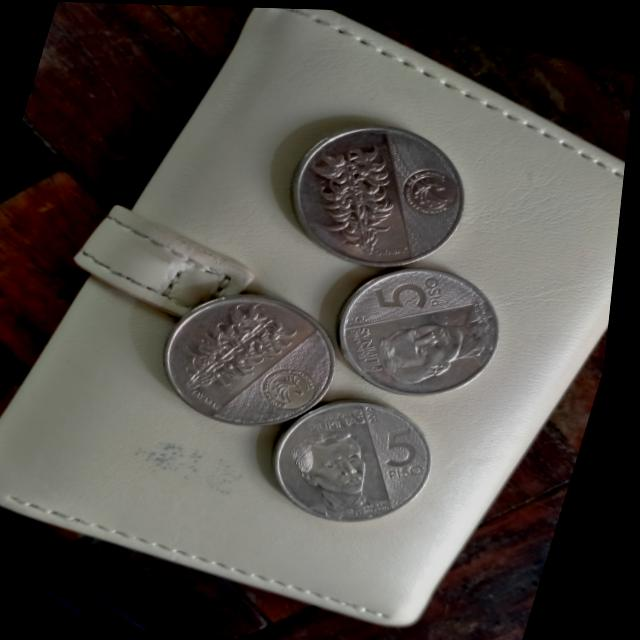5_New_Back: (289, 127, 430, 263), (170, 291, 309, 415)
5_New_Front: (366, 257, 458, 325), (374, 418, 450, 489)
